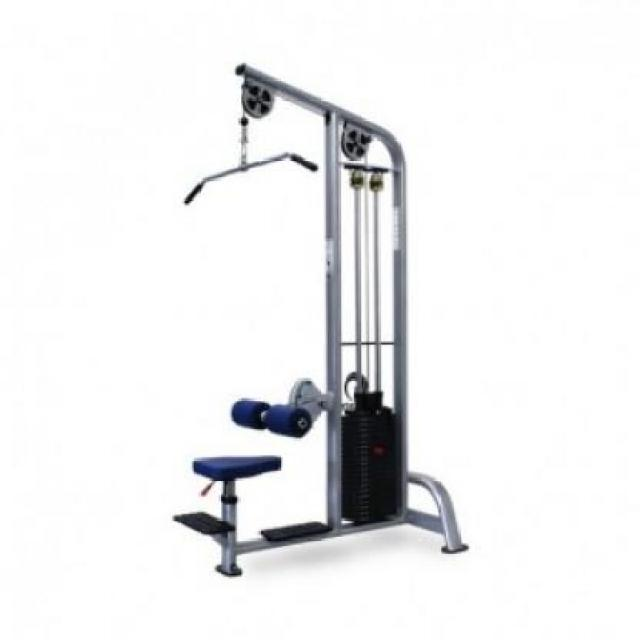Lat Pull Down: (167, 56, 478, 586)
